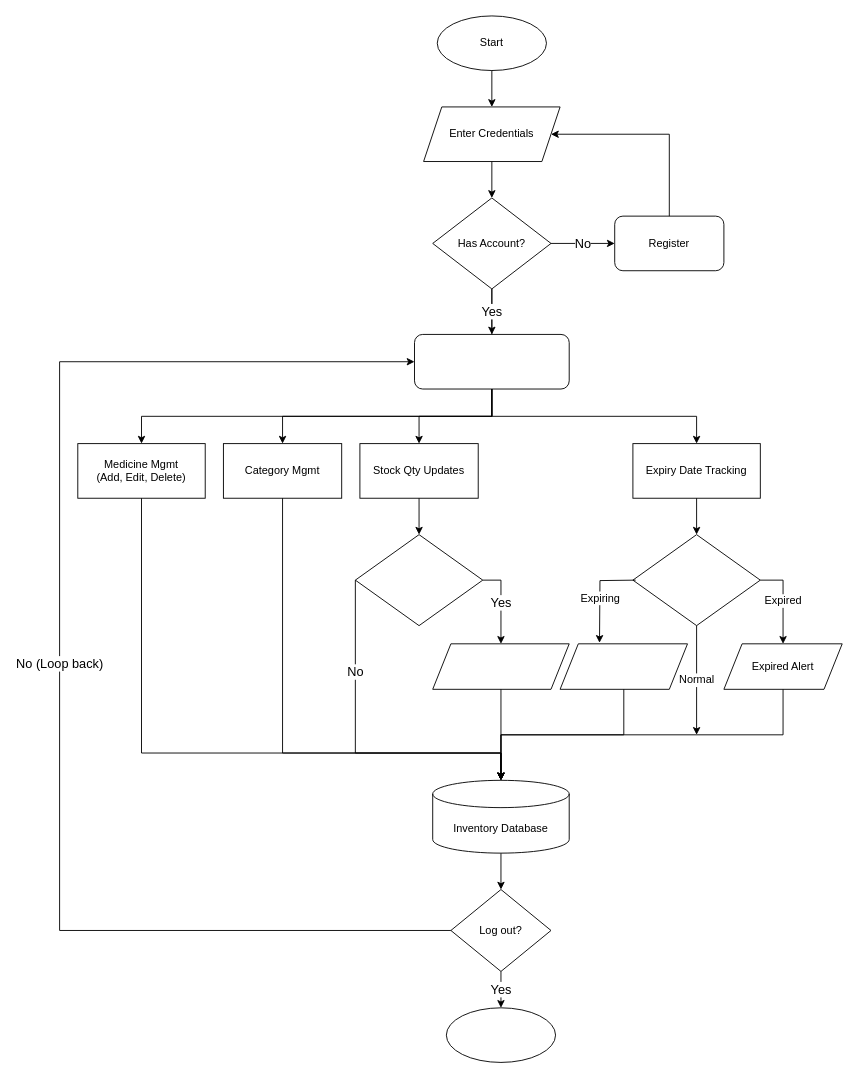
Image size: 858x1078. Some labels were removed from this diagram. Each missing label, with the centre of its shape:
Dashboard: point 491,361
End: point 500,1034
Low Stock Alert: point 500,666
Medicine Status?: point 696,580
Near-Expiry Alert: point 623,666
Stock < Reorder?: point 418,580
